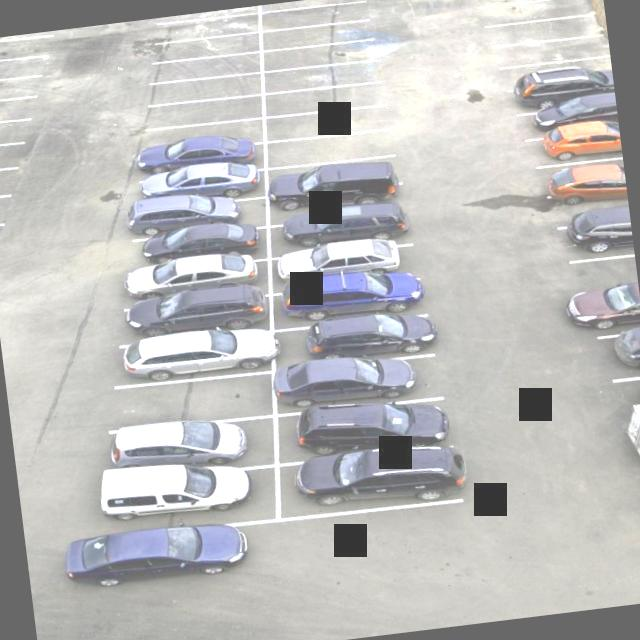car: (94, 454, 278, 538), (268, 387, 448, 472), (272, 445, 458, 526), (274, 342, 444, 419), (104, 406, 277, 480), (107, 318, 272, 389), (272, 263, 426, 339), (272, 303, 436, 374), (111, 278, 275, 346), (106, 240, 262, 303), (276, 230, 424, 295), (114, 188, 274, 246), (123, 212, 281, 270), (270, 206, 418, 264), (128, 154, 272, 212), (270, 170, 407, 226), (132, 130, 269, 186), (514, 80, 618, 140), (534, 110, 624, 174), (516, 64, 616, 118), (564, 279, 640, 340), (562, 244, 638, 298), (542, 154, 626, 202), (556, 217, 635, 268), (556, 186, 631, 236)
free: (95, 362, 282, 436), (260, 117, 400, 177), (264, 146, 404, 198), (266, 94, 398, 149), (495, 20, 611, 77), (127, 88, 265, 134), (254, 51, 383, 100), (134, 64, 262, 112), (131, 106, 264, 152), (258, 75, 389, 121), (259, 32, 375, 80), (256, 16, 366, 58), (144, 27, 259, 66), (513, 48, 613, 92), (500, 5, 589, 52), (259, 0, 368, 37), (158, 48, 263, 86), (156, 6, 258, 44), (491, 0, 580, 33), (0, 32, 50, 71), (478, 0, 580, 17), (162, 5, 258, 22), (0, 48, 44, 85), (0, 29, 61, 51), (258, 0, 364, 12), (0, 70, 33, 105), (0, 95, 32, 129), (0, 145, 21, 176), (0, 119, 14, 149)
